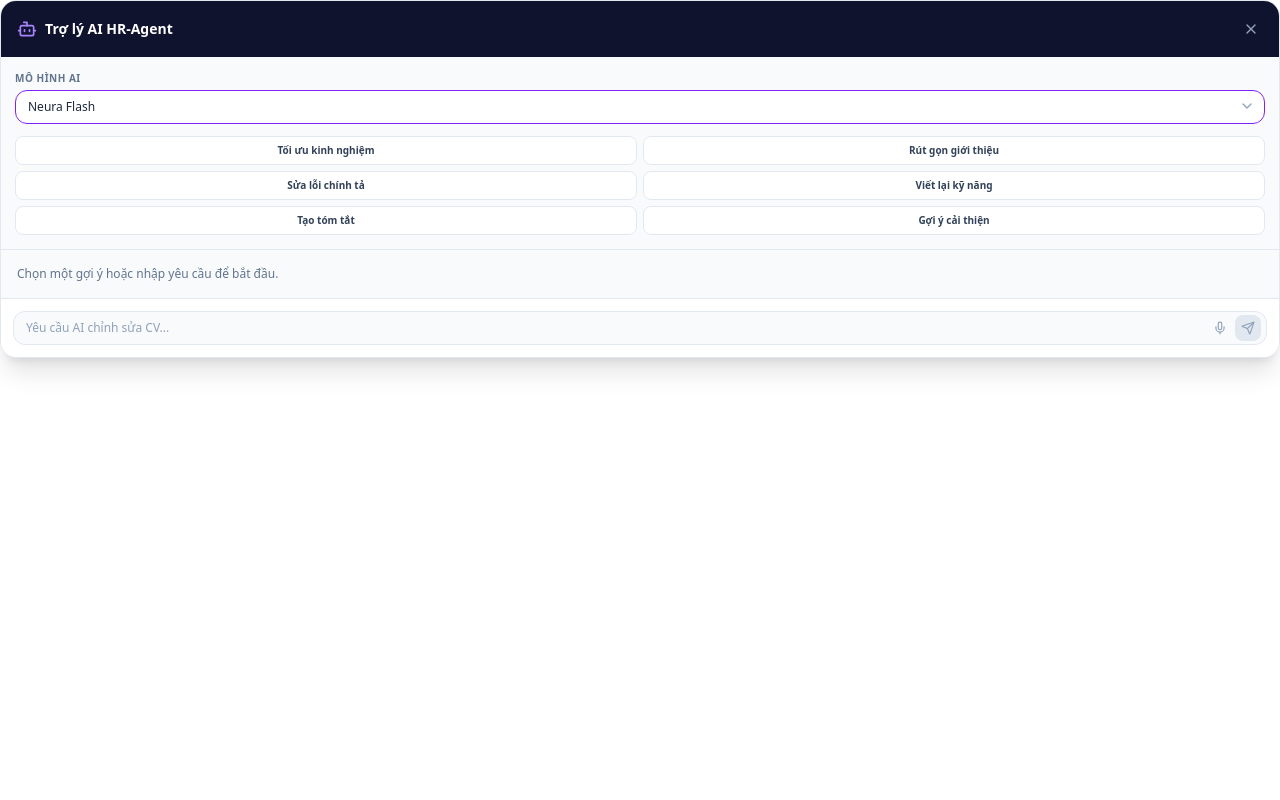
it: ChatPanel — giao diện trợ lý AI › preflights against the current draft and keeps the proposal when the draft has diverged
Click the button "Tạo tóm tắt".
click(326, 220)  # box [15,206,637,235]
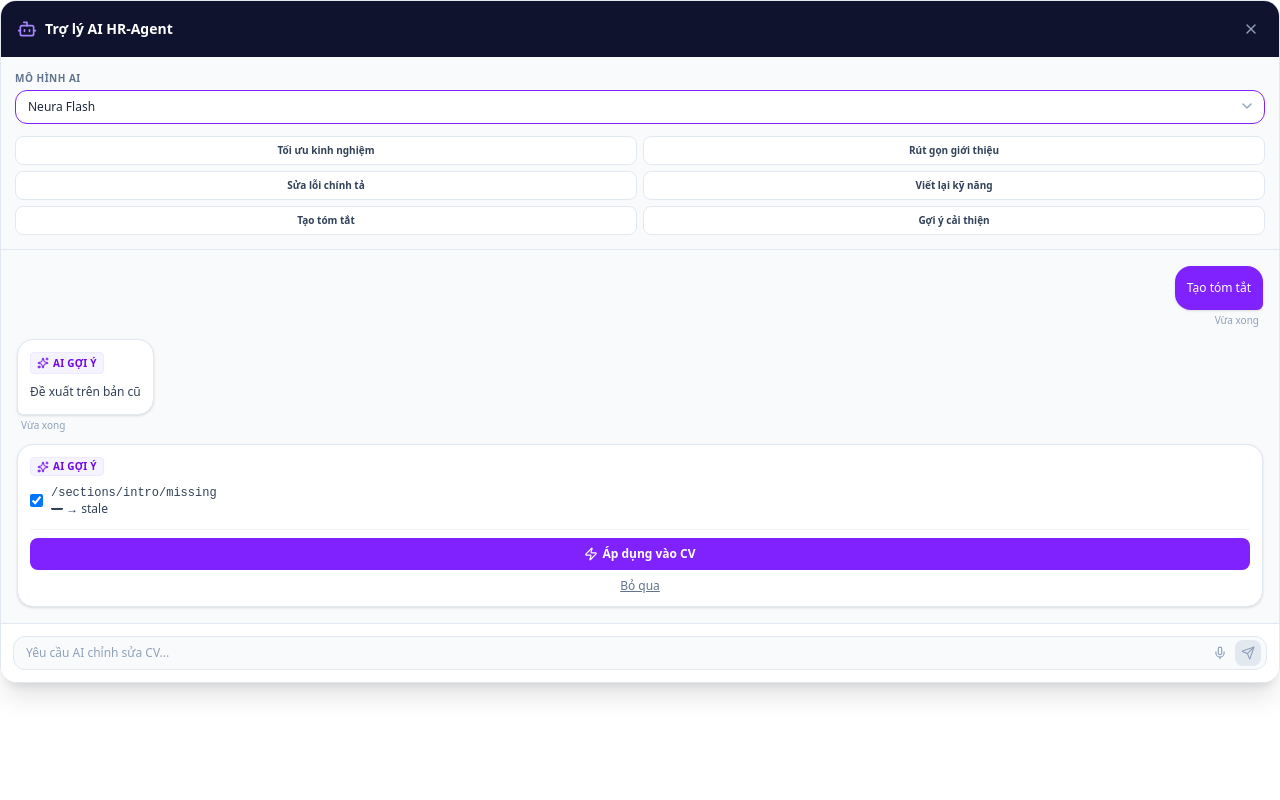
Click the button "Áp dụng vào CV".
click(640, 554)  # box [30,538,1250,570]
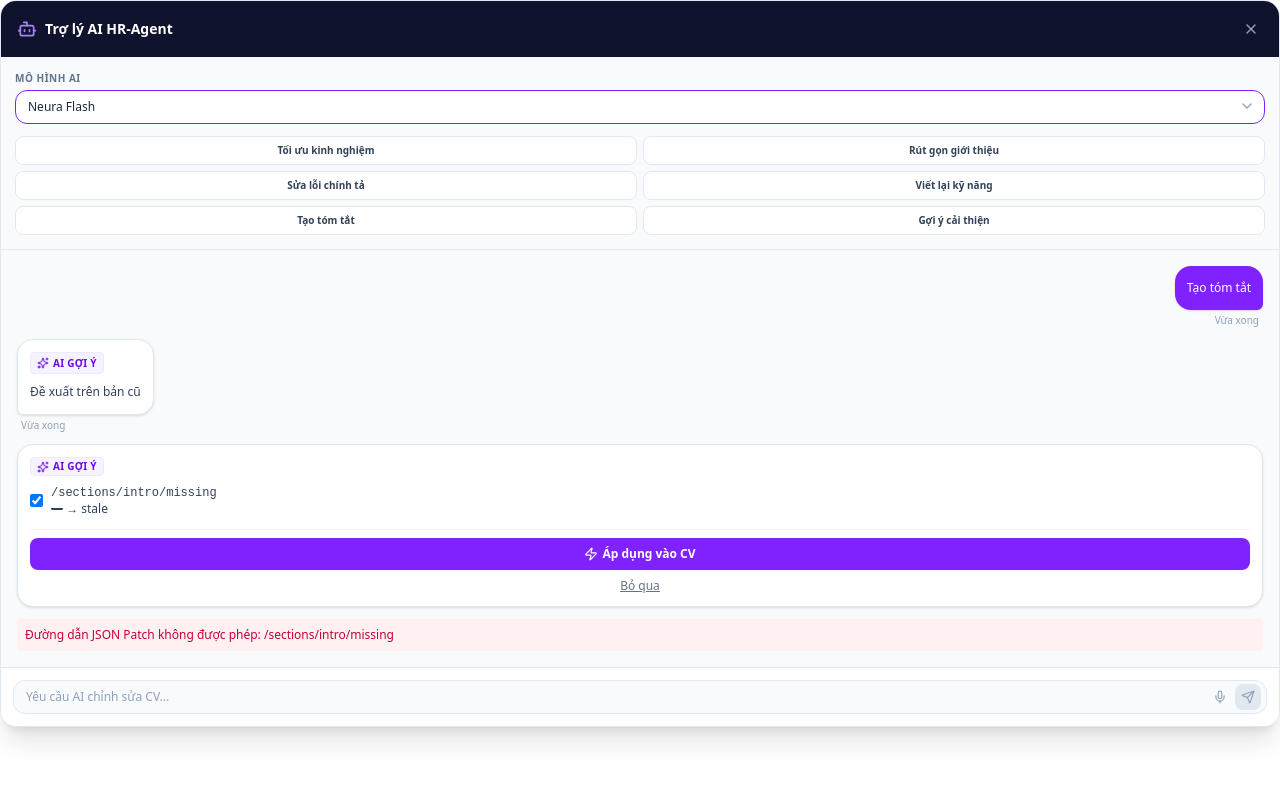
Expected: the button "Áp dụng vào CV" is shown, [30,538,1250,570]
Expected: the message shows "không được phép", [25,626,394,643]
